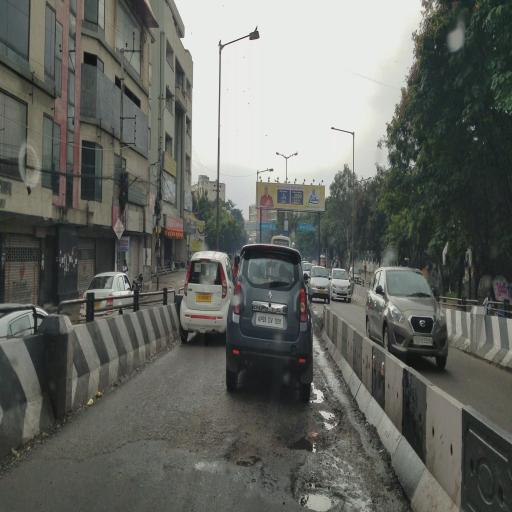street_light_0: (220, 16, 264, 50), (330, 121, 358, 147), (252, 160, 277, 178), (286, 146, 300, 158), (272, 147, 286, 159)
